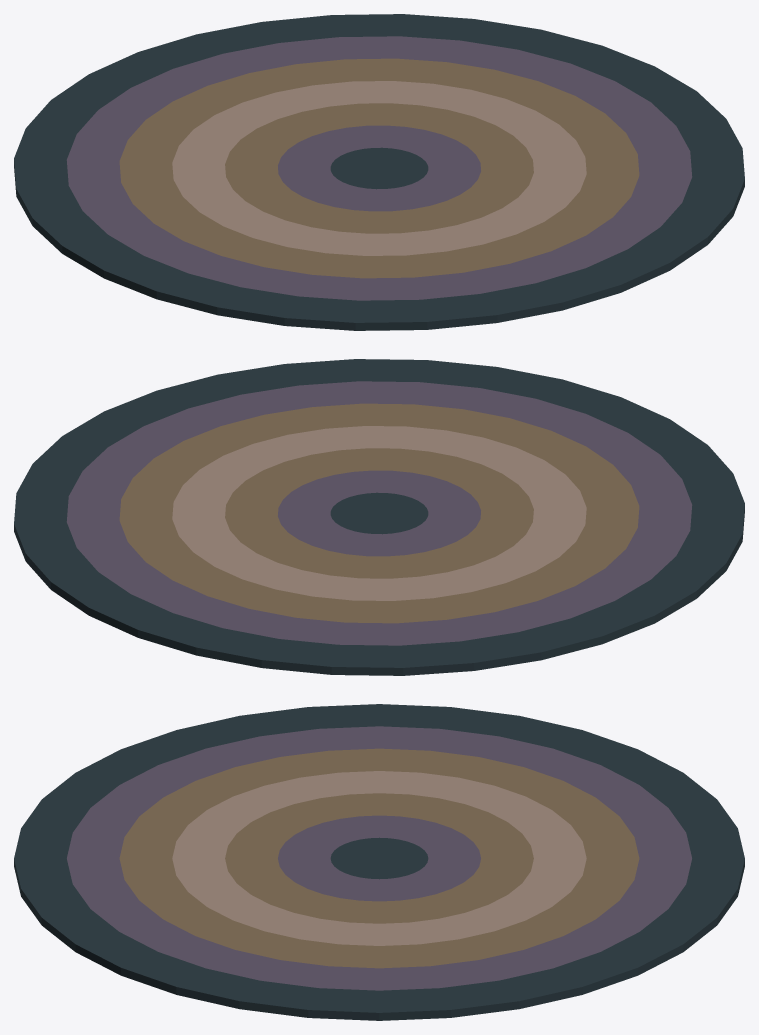
Rendered from Carpet2.fbx.
3 renders of one model, top to bottom at view 1: azimuth 30°, elevation 25°; view 2: azimuth 150°, elevation 25°; view 3: azimuth 270°, elevation 25°, orthographic.
Parts seen in each view (by area): view 1: Carpet2; view 2: Carpet2; view 3: Carpet2.
Boxes of the visible parts, x1=… form: Carpet2: x1=14, y1=14, x2=744, y2=330; Carpet2: x1=14, y1=359, x2=744, y2=675; Carpet2: x1=14, y1=704, x2=744, y2=1020.
Bounding box in the file's own units: 5.38 × 0.0649 × 5.38.
